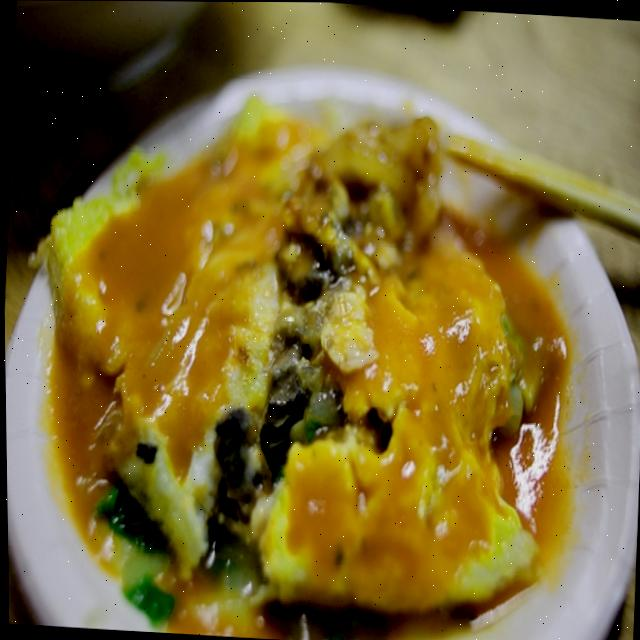熟制海鲜: (0, 35, 637, 640)
